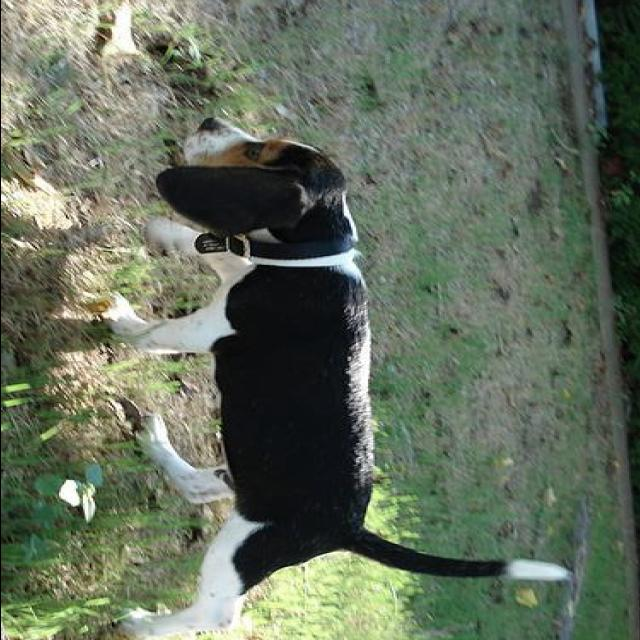beagle: (97, 114, 579, 636)
